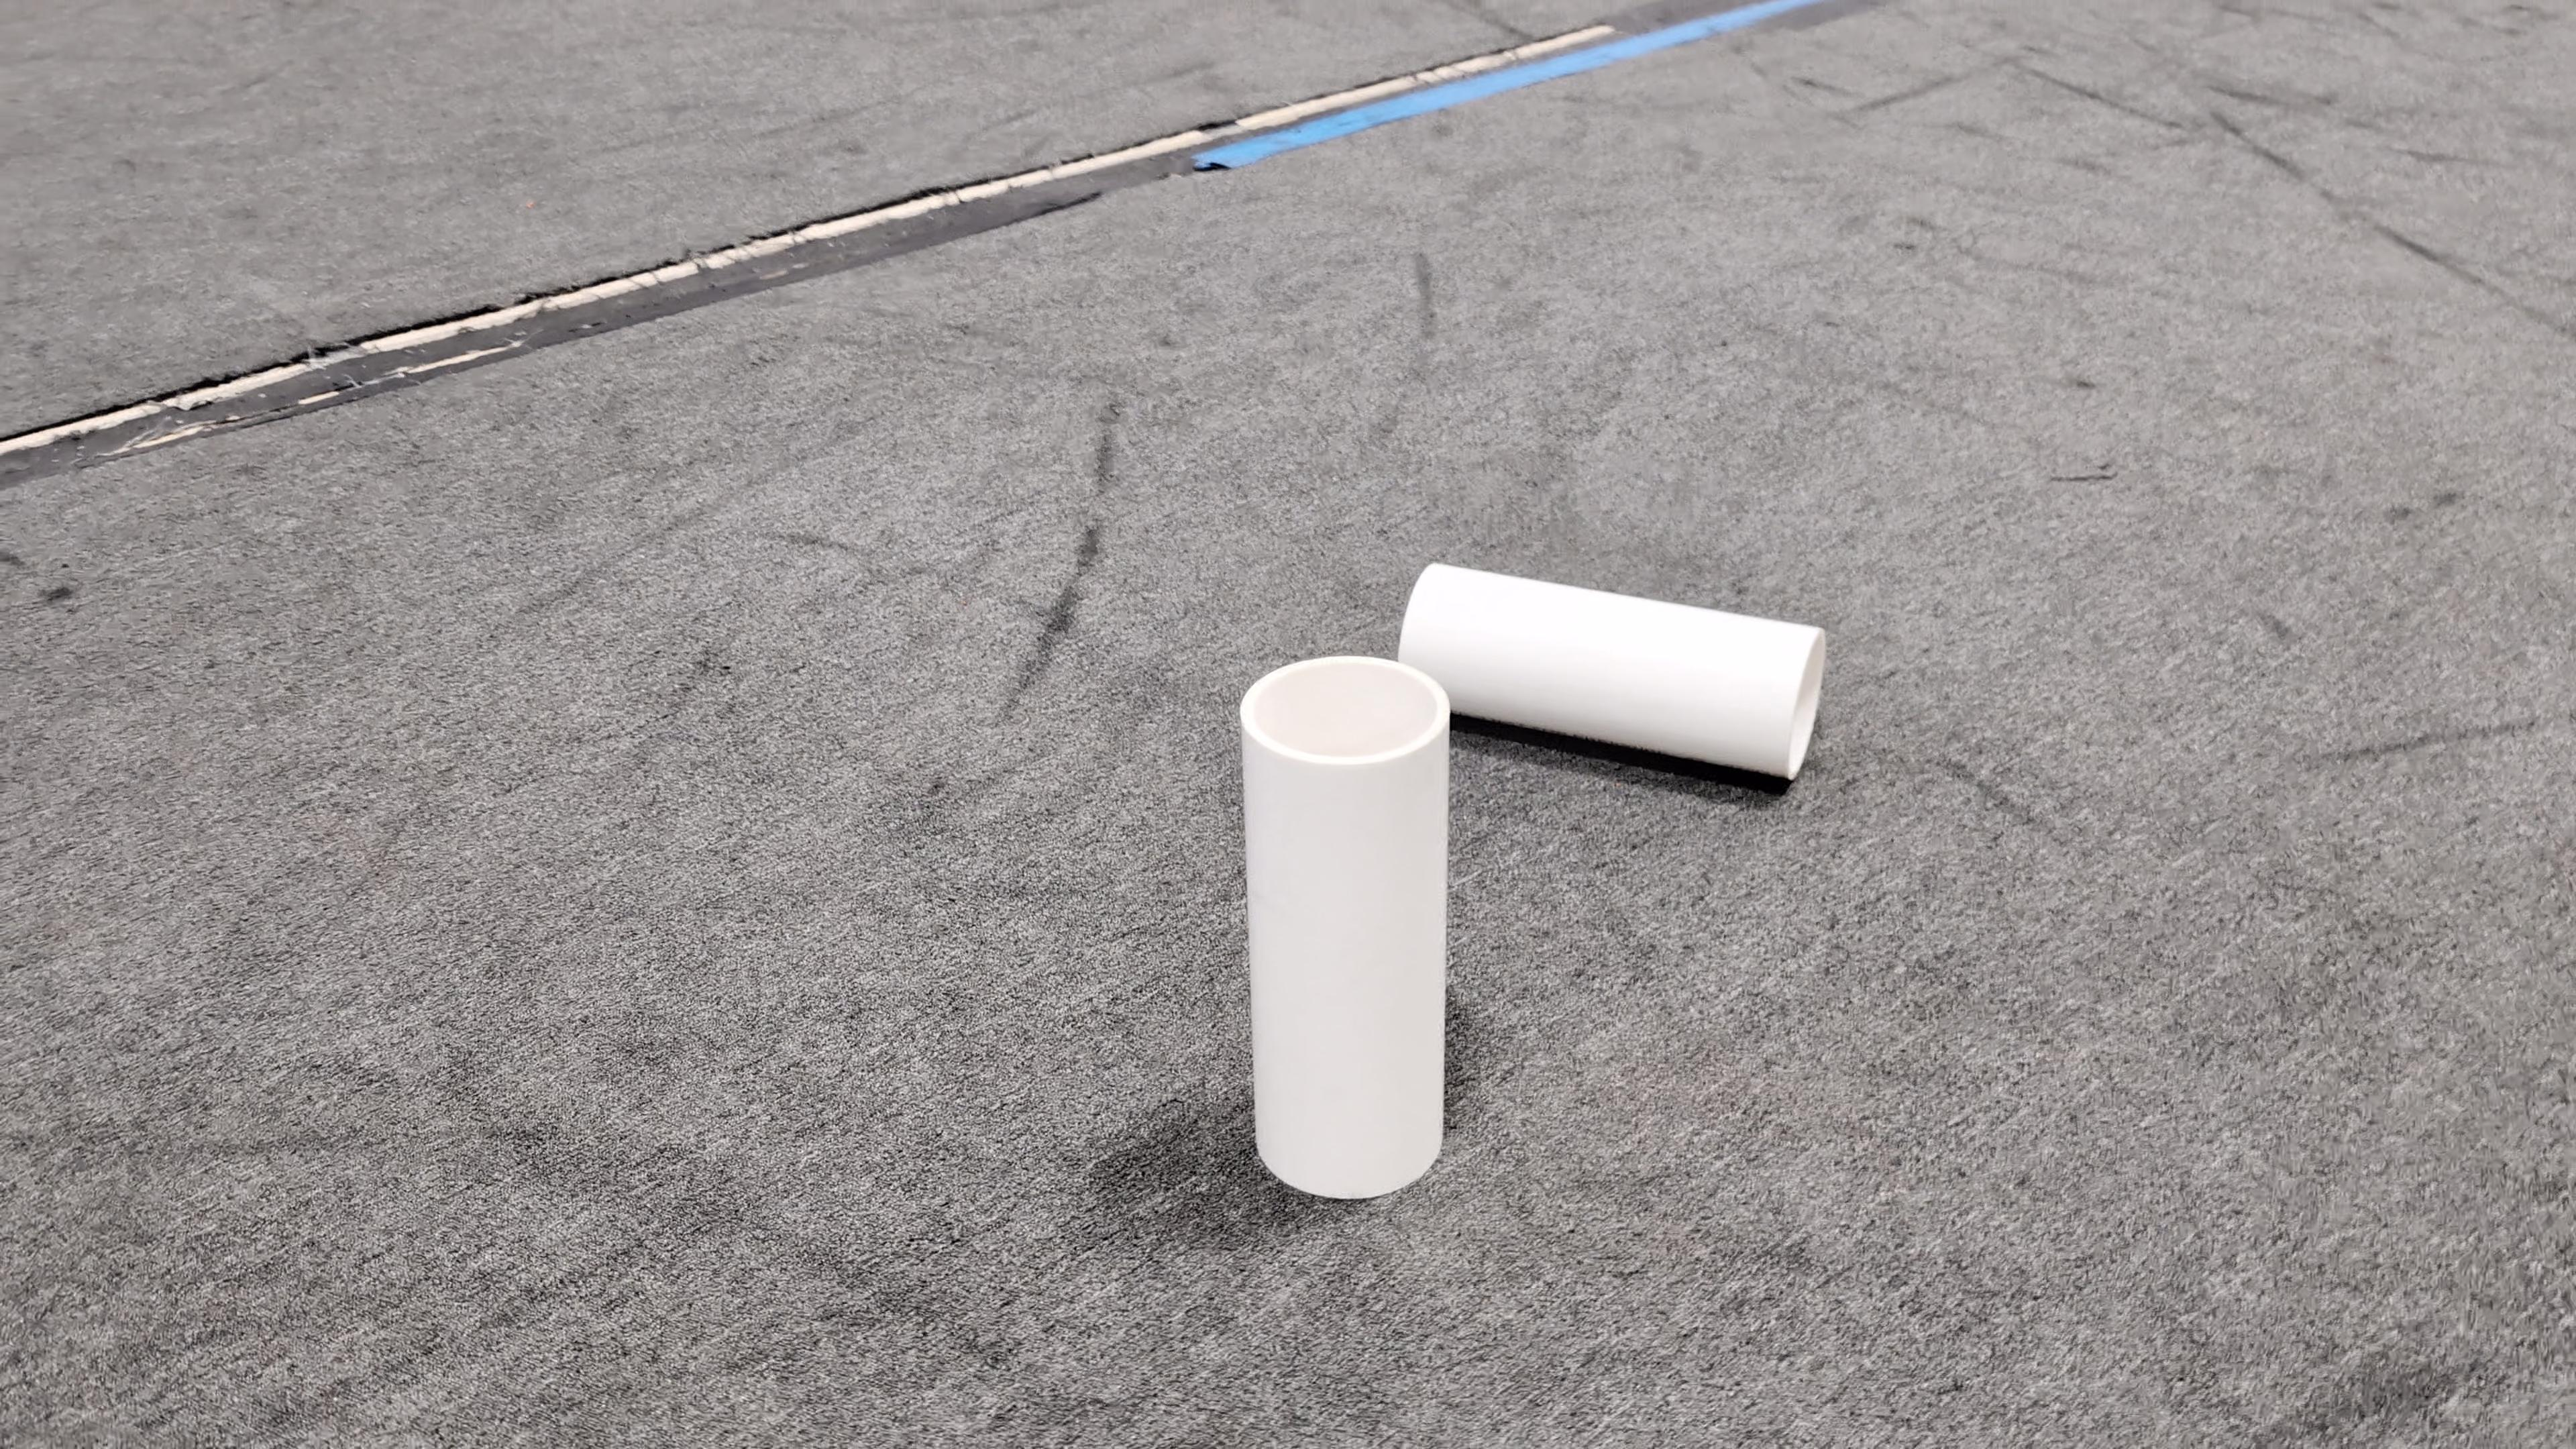coral: (1235, 655, 1458, 1198), (1398, 561, 1826, 780)
